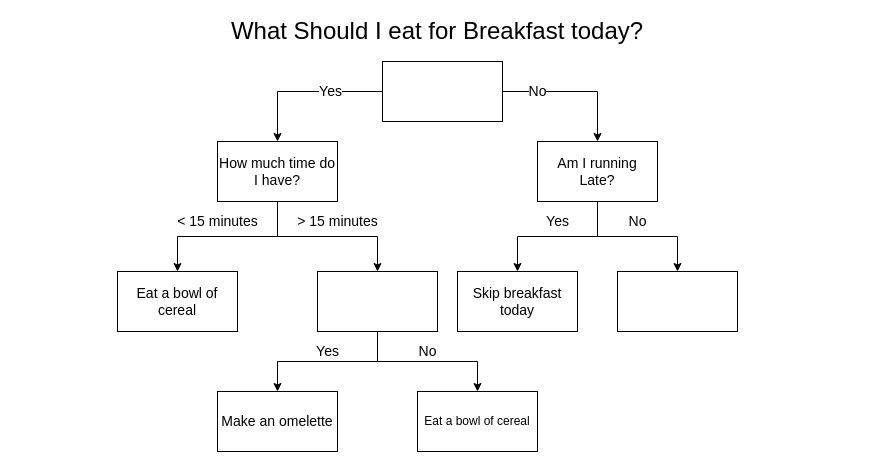
This 874x469 diagram has some shape labels left out. Here are the shapes that lost their labels. From the top down, the centre of each, then its label:
[442,91]: Do I have cereal in my apartment
[377,301]: Do I have eggs?
[677,301]: Grab a bacon egg and cheese at a corner store
